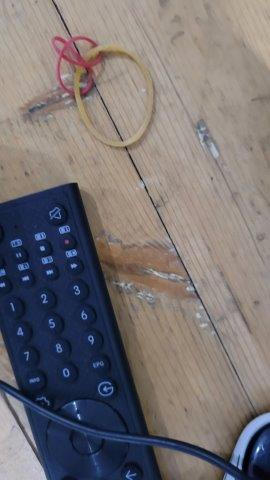karet: (49, 35, 156, 149)
